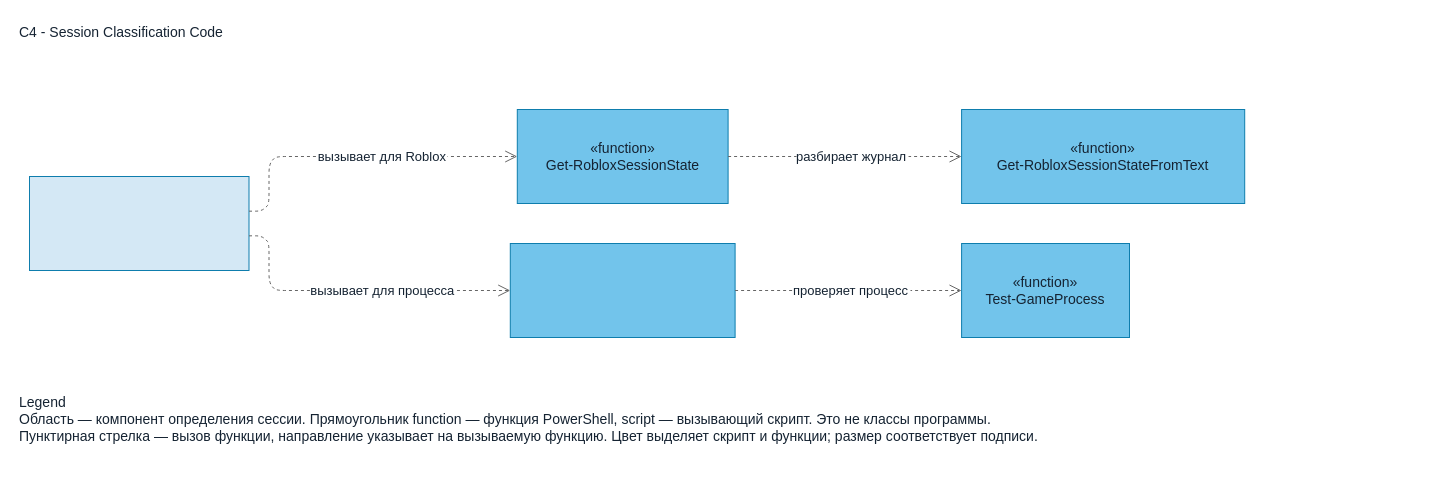
The diagram is 1434 pixels wide and 499 high, and some of its shapes have lost their labels. The centre of each missing label's shape, as x and y in pixels:
«function» Test-PlayingGameProcess: the point at 622,290
«script» Цикл Monitor.System.ps1: the point at 138,223
